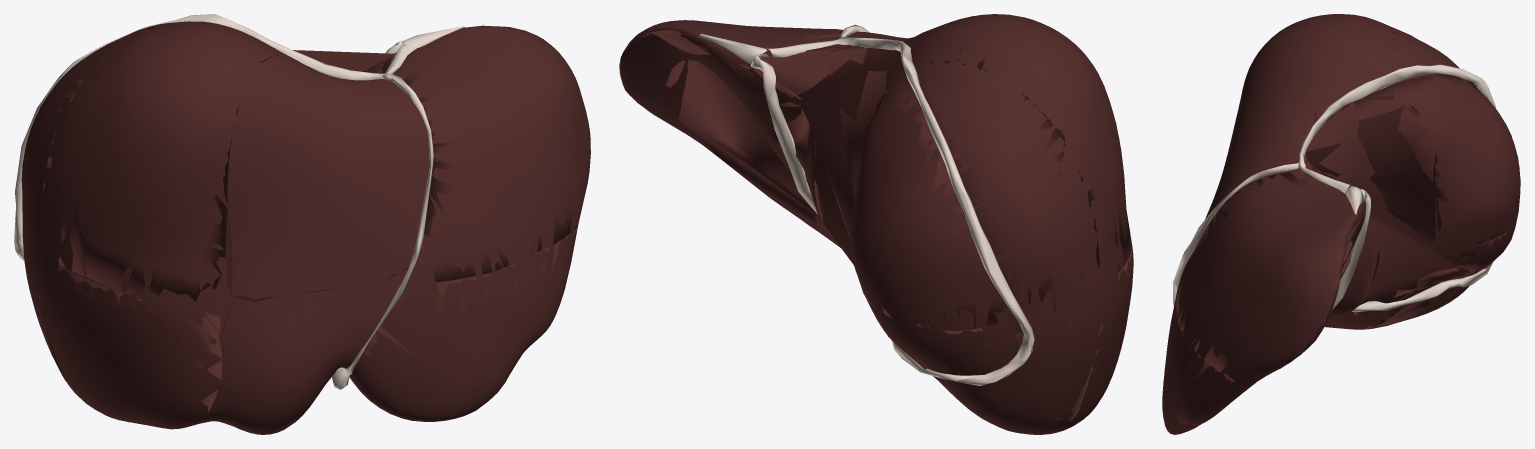
The model's file is vh_f_liver-20.glb.
3 views of the same model, side by side, from view 1: azimuth 30°, elevation 25°; view 2: azimuth 150°, elevation 25°; view 3: azimuth 270°, elevation 25° (orthographic). The views are drawn at different scales.
Parts seen in each view (by area): view 1: VH_F_capsule_of_the_liver, VH_F_left_superomedial_segment, VH_F_right_anterosuperior_segment, VH_F_right_anteroinferior_segment, VH_F_left_anterolateral_segment, VH_F_coronary_ligament_of_liver, VH_F_falciform_ligament, VH_F_bare_area_of_liver, VH_F_left_superomedial_segment1, VH_F_right_posterosuperior_segment; view 2: VH_F_capsule_of_the_liver, VH_F_bare_area_of_liver, VH_F_right_posterosuperior_segment, VH_F_gastric_impression_of_liver, VH_F_coronary_ligament_of_liver, VH_F_left_superomedial_segment, VH_F_caudate_lobe, VH_F_right_posteroinferior_segment, VH_F_right_anterosuperior_segment, VH_F_ligamentum_venosum, VH_F_right_anteroinferior_segment, VH_F_esophageal_impression_of_liver (+2 smaller); view 3: VH_F_capsule_of_the_liver, VH_F_bare_area_of_liver, VH_F_left_superomedial_segment, VH_F_caudate_lobe, VH_F_right_posterosuperior_segment, VH_F_coronary_ligament_of_liver, VH_F_left_anterolateral_segment, VH_F_falciform_ligament, VH_F_right_anterosuperior_segment, VH_F_ligamentum_venosum, VH_F_renal_impression_of_liver, VH_F_right_posteroinferior_segment (+1 smaller).
Boxes of the visible parts, left/top/right/bottom form: VH_F_capsule_of_the_liver: left=21, top=21, right=590, bottom=434; VH_F_left_superomedial_segment: left=382, top=27, right=590, bottom=281; VH_F_right_anterosuperior_segment: left=43, top=22, right=277, bottom=301; VH_F_right_anteroinferior_segment: left=39, top=265, right=222, bottom=426; VH_F_left_anterolateral_segment: left=349, top=226, right=577, bottom=419; VH_F_coronary_ligament_of_liver: left=14, top=14, right=413, bottom=261; VH_F_falciform_ligament: left=344, top=73, right=433, bottom=374; VH_F_bare_area_of_liver: left=293, top=50, right=396, bottom=73; VH_F_left_superomedial_segment1: left=226, top=59, right=433, bottom=302; VH_F_right_posterosuperior_segment: left=22, top=22, right=179, bottom=229; VH_F_capsule_of_the_liver: left=620, top=14, right=1133, bottom=434; VH_F_bare_area_of_liver: left=752, top=47, right=1023, bottom=375; VH_F_right_posterosuperior_segment: left=851, top=61, right=1099, bottom=330; VH_F_gastric_impression_of_liver: left=665, top=60, right=818, bottom=229; VH_F_coronary_ligament_of_liver: left=766, top=36, right=1034, bottom=385; VH_F_left_superomedial_segment: left=622, top=21, right=843, bottom=170; VH_F_caudate_lobe: left=779, top=48, right=899, bottom=238; VH_F_right_posteroinferior_segment: left=865, top=297, right=1101, bottom=434; VH_F_right_anterosuperior_segment: left=893, top=14, right=1132, bottom=271; VH_F_ligamentum_venosum: left=750, top=54, right=817, bottom=214; VH_F_right_anteroinferior_segment: left=1070, top=246, right=1133, bottom=425; VH_F_esophageal_impression_of_liver: left=768, top=101, right=810, bottom=181; VH_F_capsule_of_the_liver: left=1162, top=14, right=1472, bottom=434; VH_F_bare_area_of_liver: left=1305, top=74, right=1520, bottom=299; VH_F_left_superomedial_segment: left=1176, top=172, right=1365, bottom=380; VH_F_caudate_lobe: left=1306, top=98, right=1435, bottom=316; VH_F_right_posterosuperior_segment: left=1393, top=32, right=1519, bottom=244; VH_F_coronary_ligament_of_liver: left=1298, top=64, right=1495, bottom=312; VH_F_left_anterolateral_segment: left=1162, top=298, right=1237, bottom=432; VH_F_falciform_ligament: left=1173, top=162, right=1298, bottom=305; VH_F_right_anterosuperior_segment: left=1252, top=14, right=1393, bottom=101; VH_F_ligamentum_venosum: left=1332, top=189, right=1370, bottom=310; VH_F_renal_impression_of_liver: left=1366, top=284, right=1459, bottom=328; VH_F_right_posteroinferior_segment: left=1387, top=228, right=1511, bottom=325.
Bounding box in the file's own units: 0.2472 × 0.17 × 0.1663.
